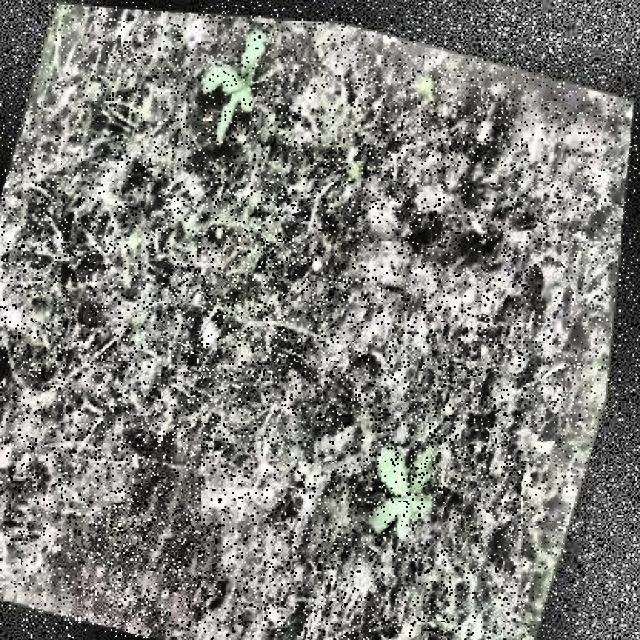Weeds: (186, 14, 274, 148), (366, 424, 462, 542)
